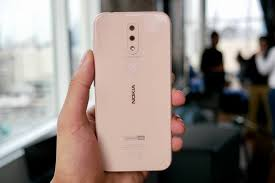nokia: (89, 9, 173, 172)
